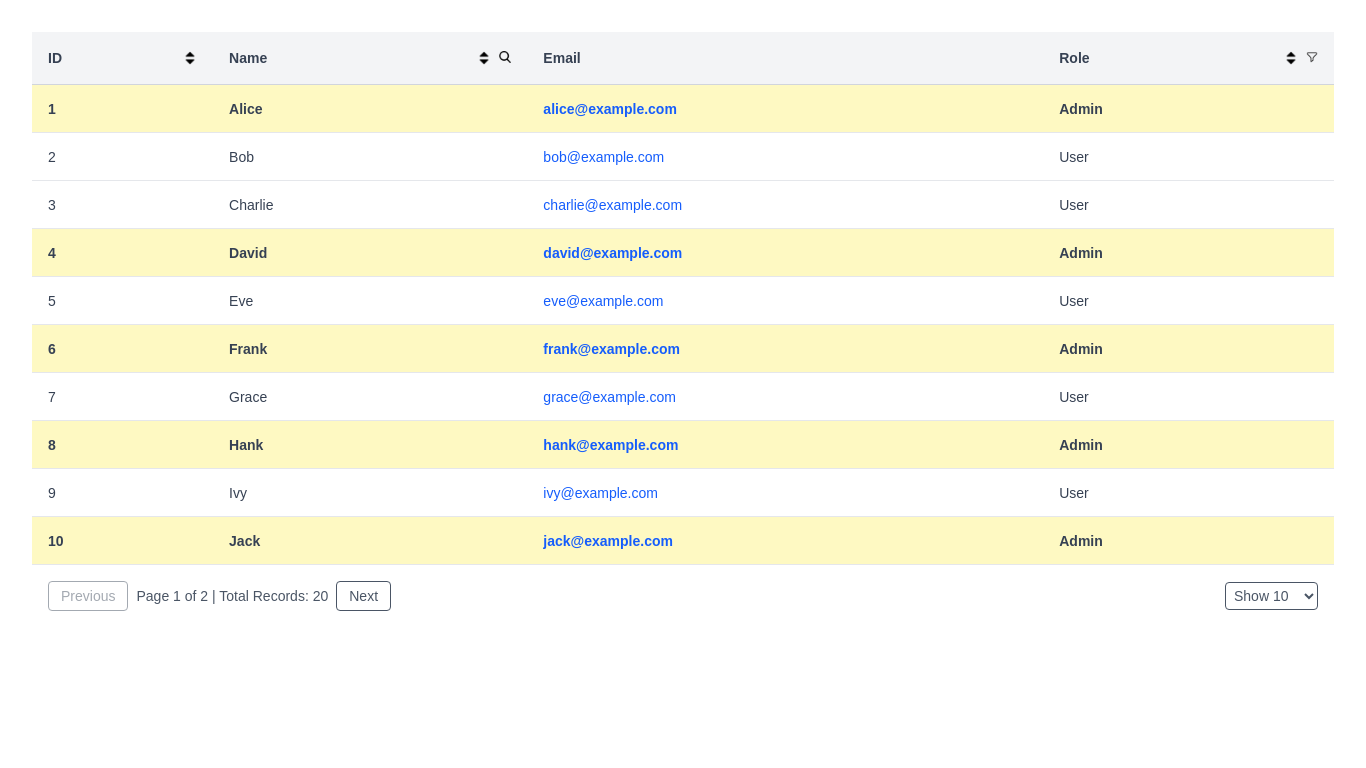
Scenario: UsersStaticPage DataGrid tests › filters by role: Admin
Click the button with test id "filter-button-role". click: click(1312, 57)
box: [1306,51,1318,63]
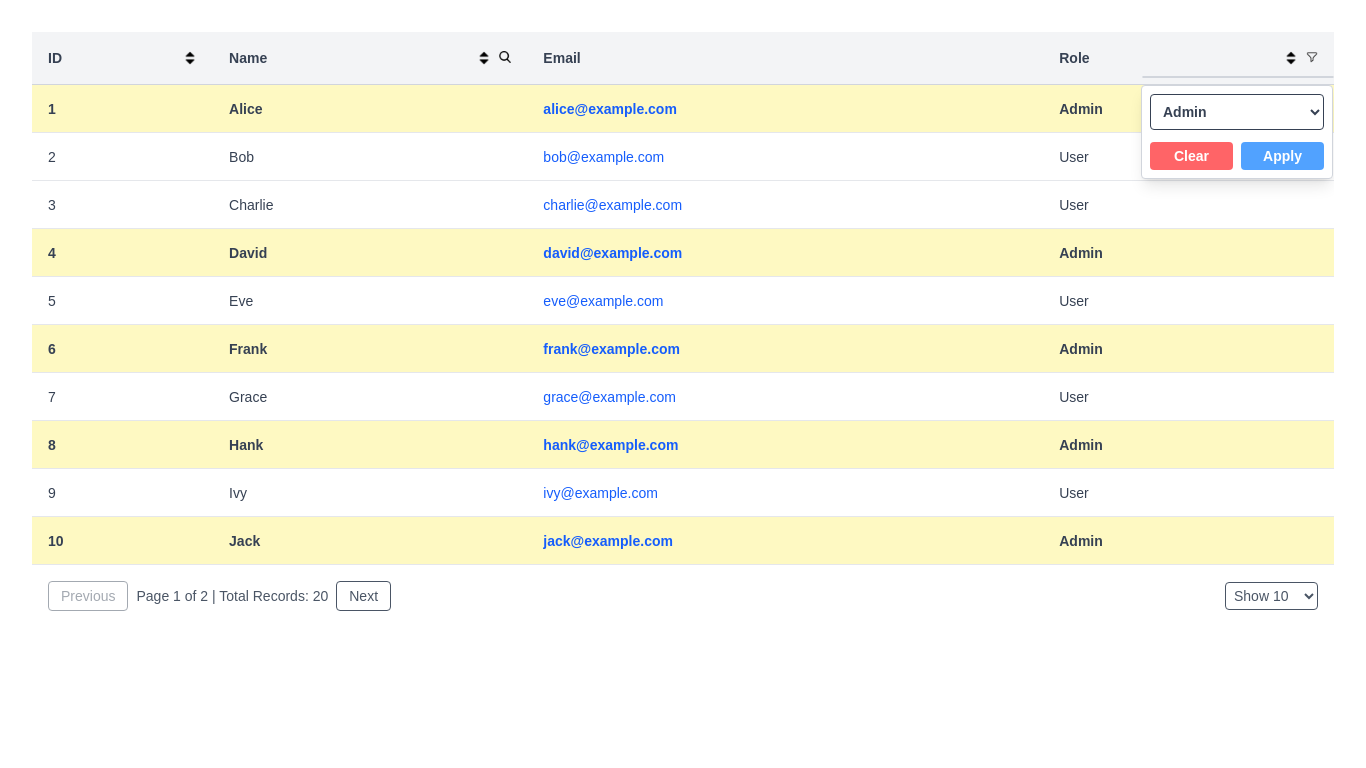
Select "Admin" in the dropdown with test id "filter-select-role". click: (1237, 112)
box: [1150,94,1324,130]
Click the button with test id "filter-popover-apply". click: click(1282, 156)
box: [1241,142,1324,170]
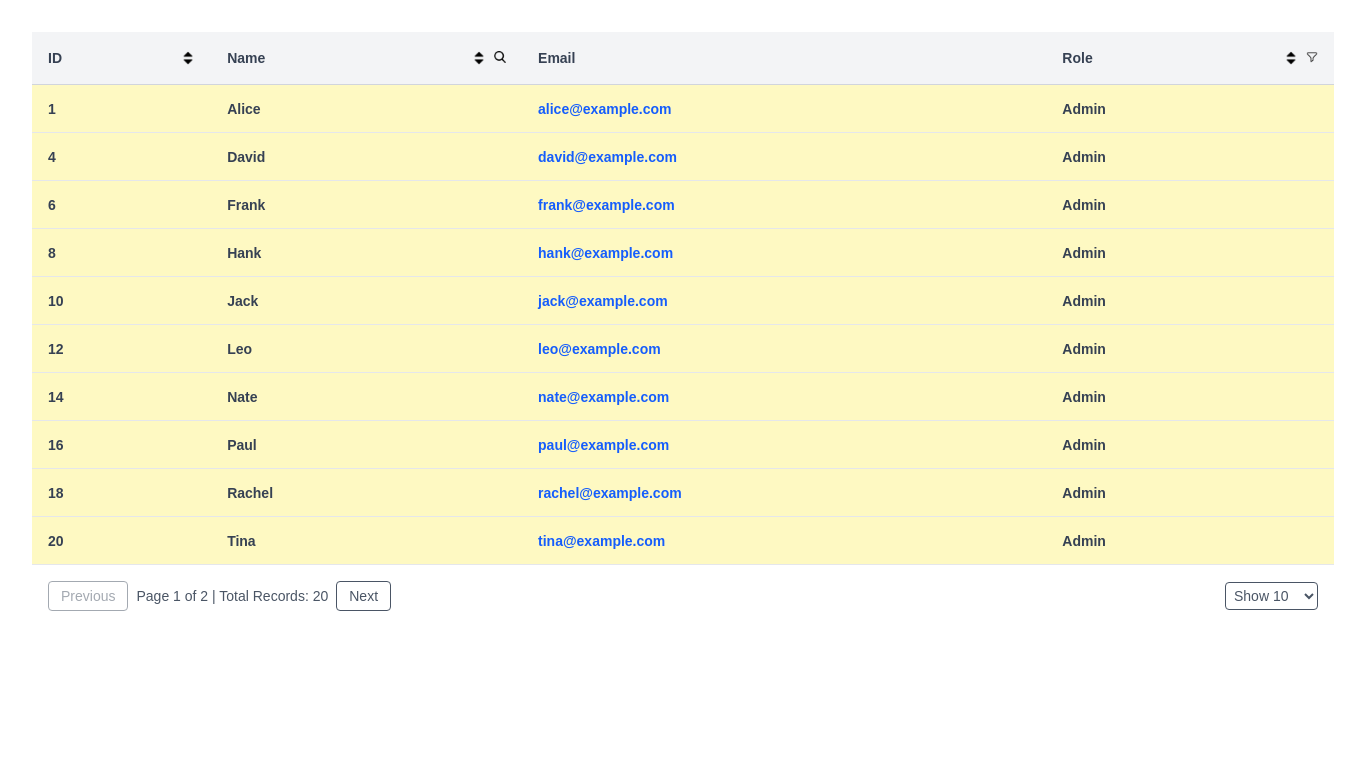
expect the cell with test id "cell-0-name" reads "Alice": met, box [227,100,261,116]
expect the cell with test id "cell-1-name" no longer shows "Bob": met, box [211,132,522,180]
